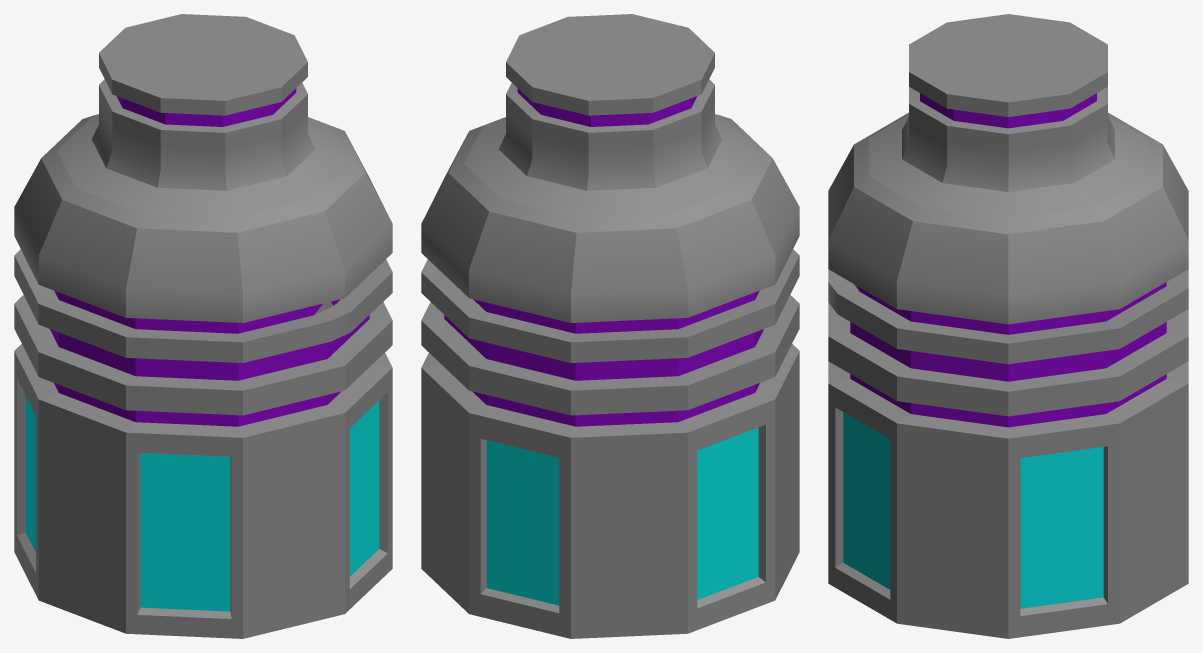
File: StylBuilding4.fbx
3 views of the same model, side by side, from view 1: azimuth 30°, elevation 25°; view 2: azimuth 150°, elevation 25°; view 3: azimuth 270°, elevation 25° (orthographic).
Visible parts, largest first — view 1: pCylinder1; view 2: pCylinder1; view 3: pCylinder1.
Boxes of the visible parts, box(x1,y1,x2,y2) form: pCylinder1: box(14, 14, 392, 638); pCylinder1: box(421, 14, 799, 638); pCylinder1: box(828, 14, 1188, 638).
Bounding box in the file's own units: 88.24 × 129 × 83.92.
